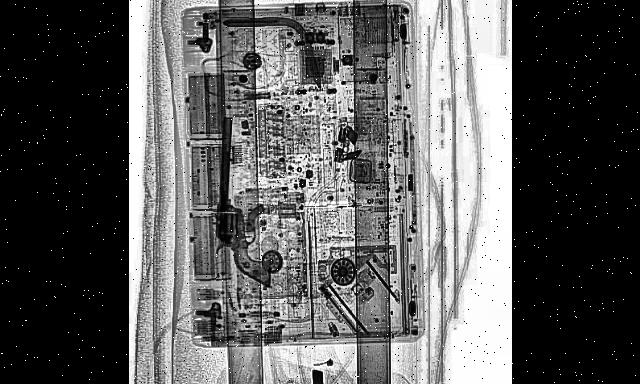Gun: (210, 113, 278, 287)
